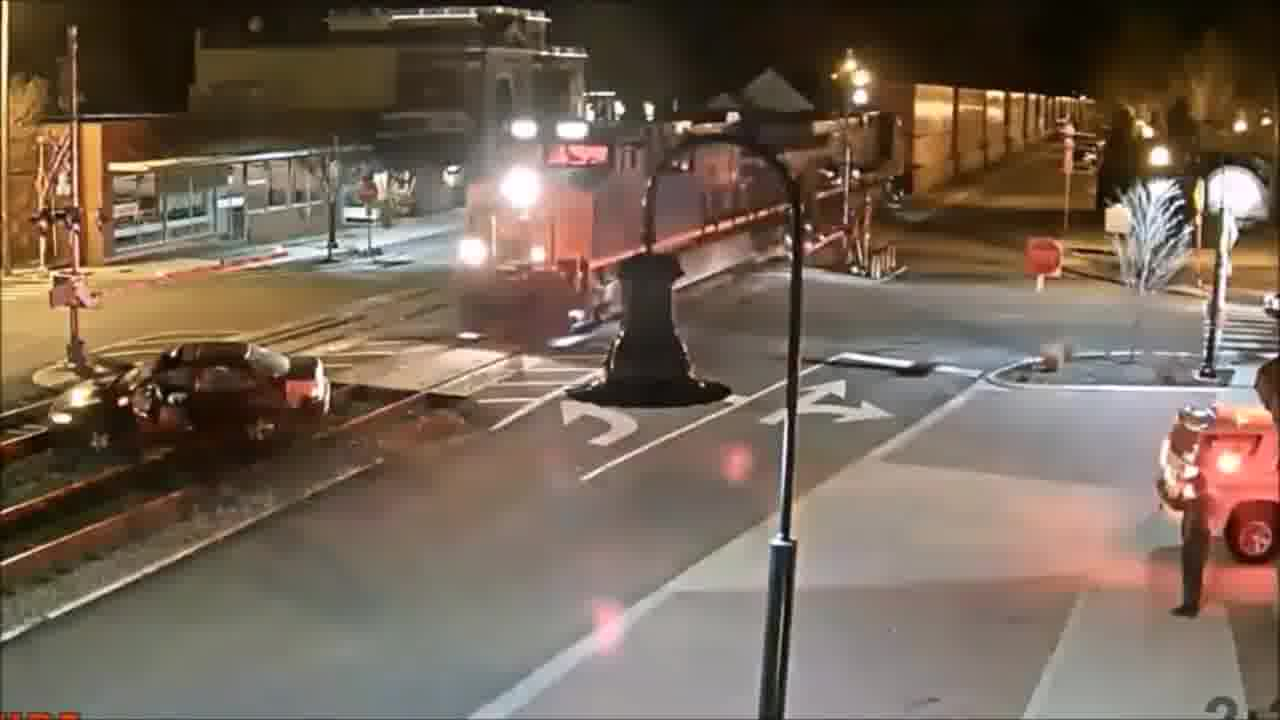crossing railway track: (45, 333, 327, 452)
